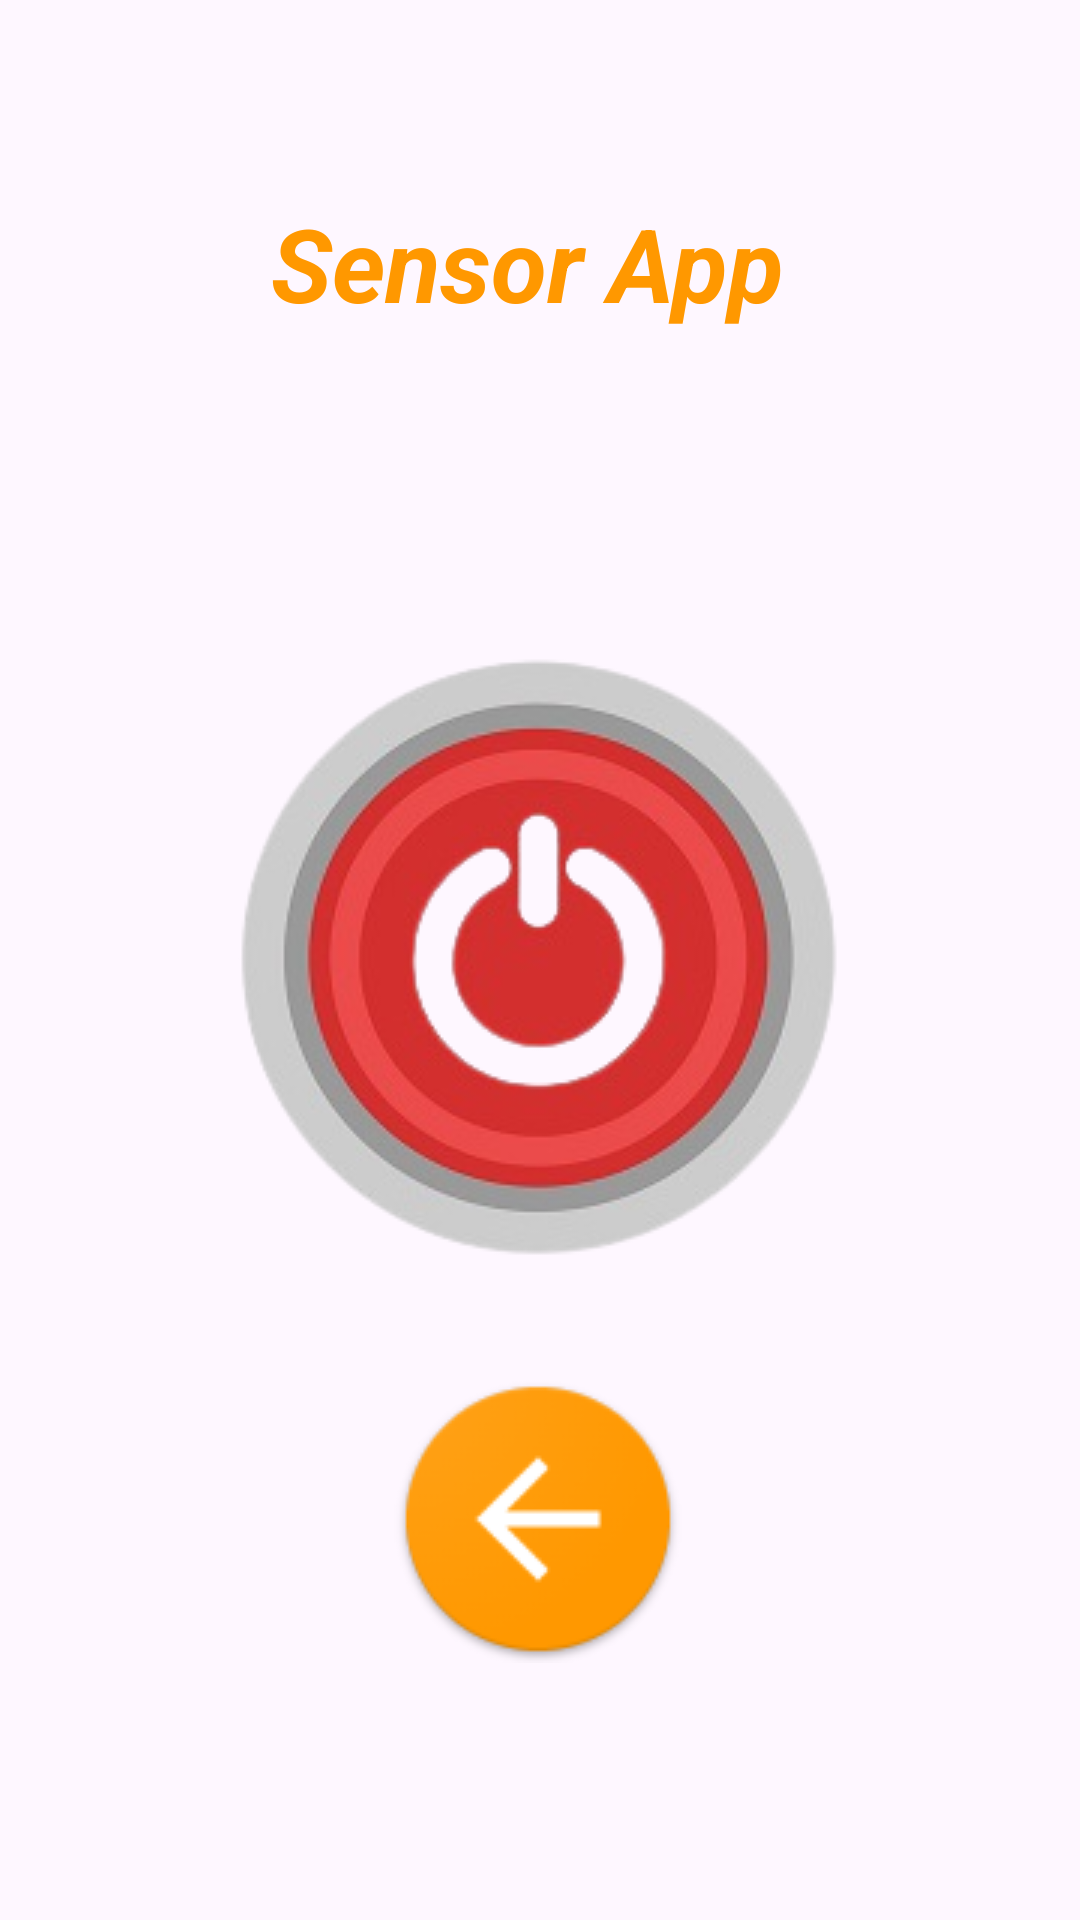

Locate icon controls on the screen. Image size 1080px x 1920px, boxes as (x1, y1, x2, y2).
ret: (404, 1386, 672, 1657)
